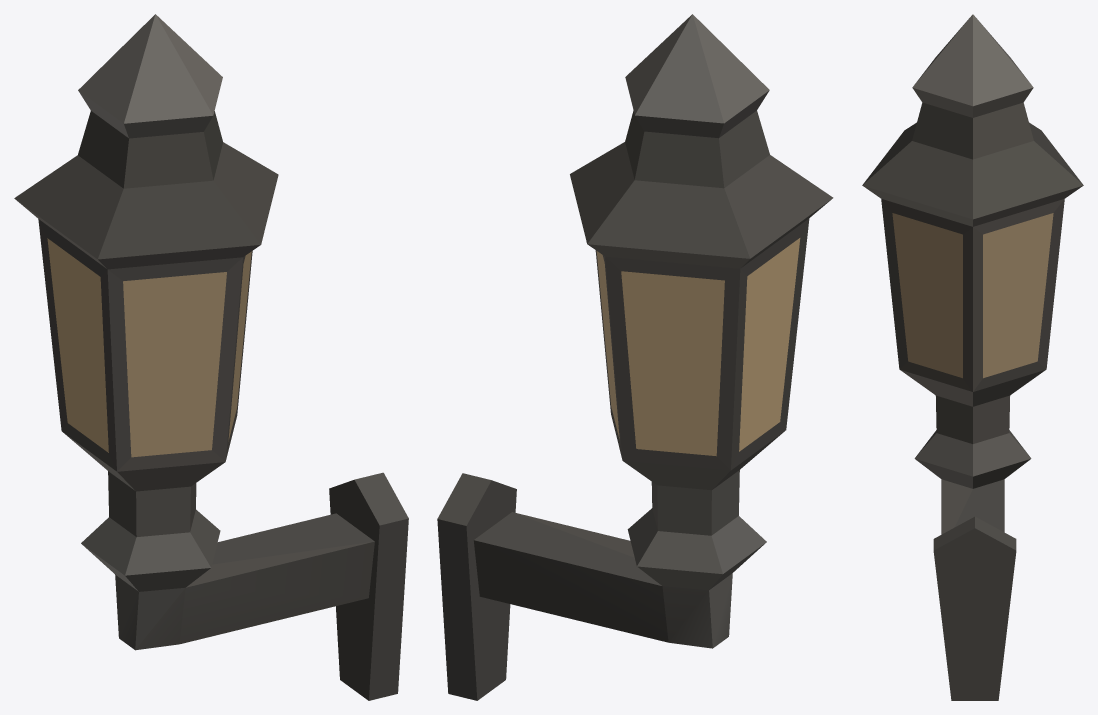
File: WallLamp-Lit_A.fbx
The picture shows the model from 3 angles, left to right: view 1: azimuth 30°, elevation 25°; view 2: azimuth 150°, elevation 25°; view 3: azimuth 270°, elevation 25°; orthographic projection. The views are drawn at different scales.
Parts seen in each view (by area): view 1: WallLamp-Lit_A; view 2: WallLamp-Lit_A; view 3: WallLamp-Lit_A.
Boxes of the visible parts, x1,y1,x2,y2 form: WallLamp-Lit_A: [14, 14, 408, 700]; WallLamp-Lit_A: [437, 14, 833, 700]; WallLamp-Lit_A: [862, 14, 1083, 700].
Size of the model in its own units: 56.32 by 119 by 40.1.
